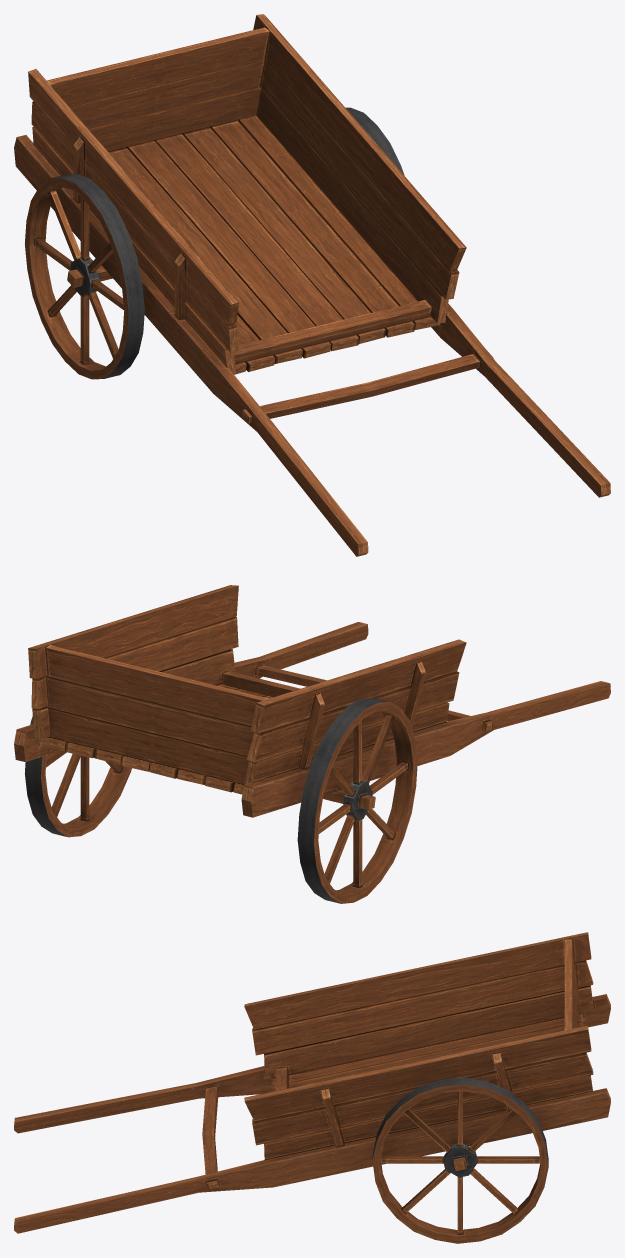
Rendered from Cart01.fbx.
3 views of the same model, one above another, from view 1: azimuth 30°, elevation 25°; view 2: azimuth 150°, elevation 25°; view 3: azimuth 270°, elevation 25° (orthographic). The views are drawn at different scales.
Parts seen in each view (by area): view 1: Cart01_LOD0, Wheels01_LOD0; view 2: Cart01_LOD0, Wheels01_LOD0; view 3: Cart01_LOD0, Wheels01_LOD0.
Part boxes in pixels (x1,y1,x2,y2): Cart01_LOD0: [14, 14, 610, 556]; Wheels01_LOD0: [25, 107, 404, 379]; Cart01_LOD0: [14, 585, 610, 817]; Wheels01_LOD0: [24, 698, 417, 903]; Cart01_LOD0: [14, 932, 610, 1233]; Wheels01_LOD0: [372, 1077, 548, 1243].
Size of what is drawn, in the model's own units: 1.49 by 1.14 by 3.02.
